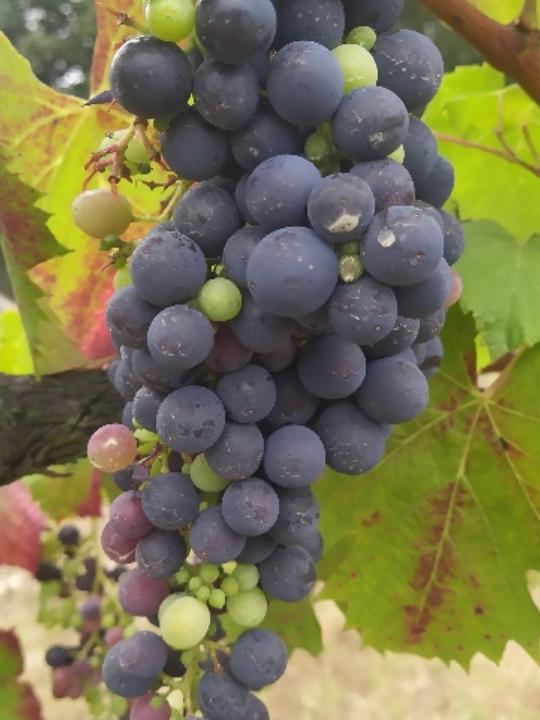grape: (75, 0, 466, 720)
